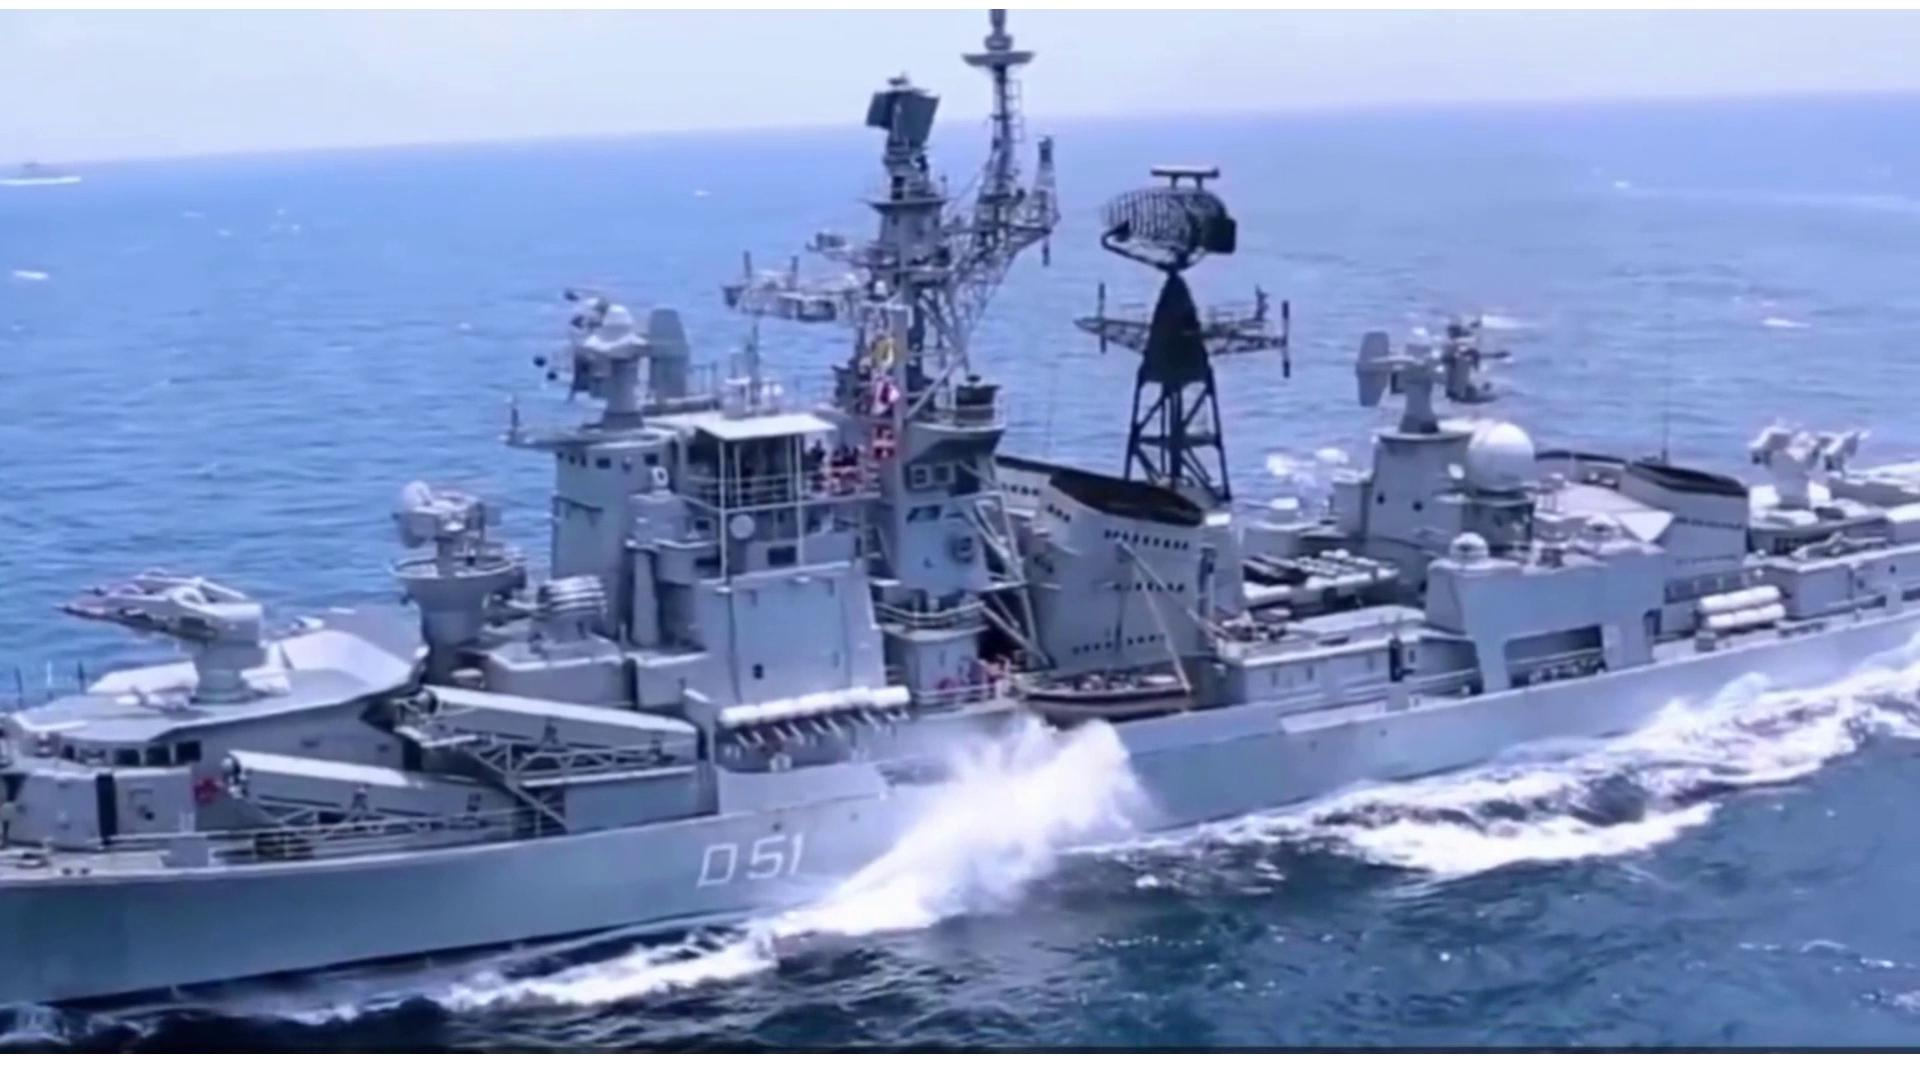OCR: (663, 818, 814, 904)
